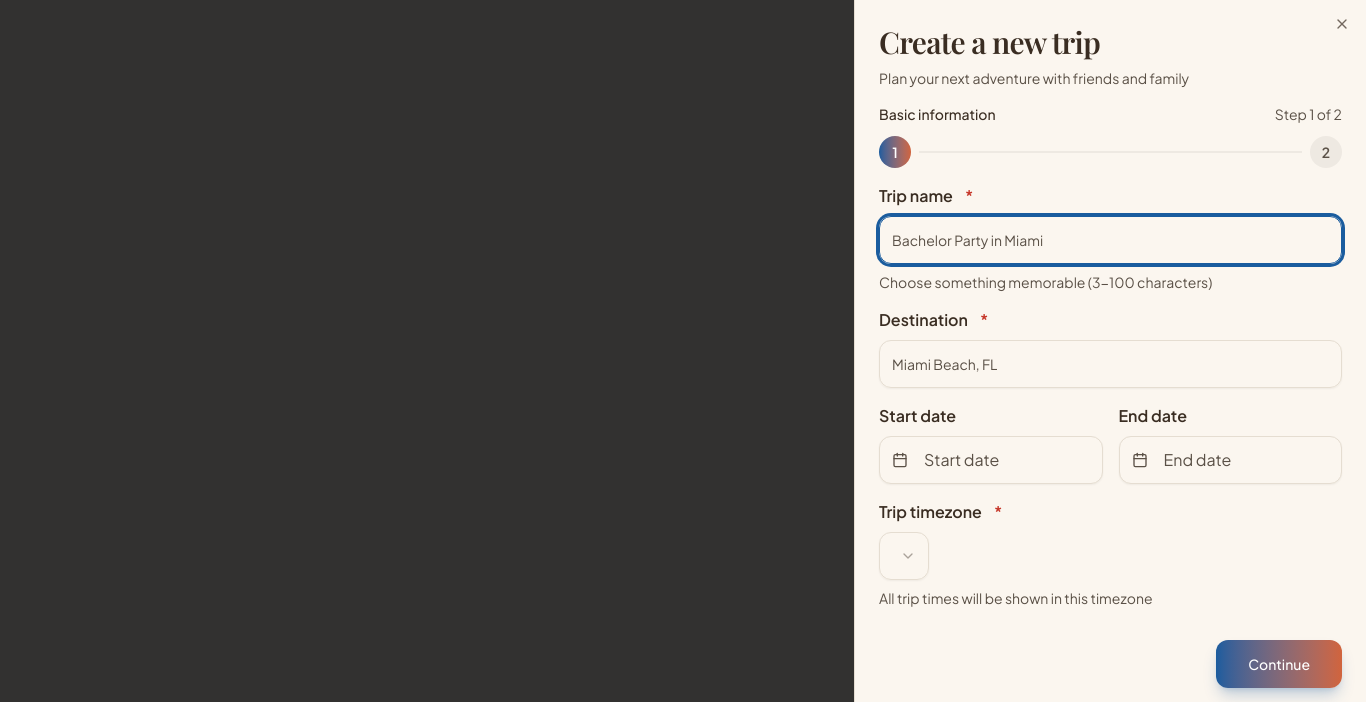
Test case: CreateTripDialog › Field validation - Date fields › accepts optional start and end dates
The image size is (1366, 702).
// Fill required fields
Type "Test Trip" into the field labelled "Trip name *" at coordinates (1110, 240), box [879,216,1342,264]
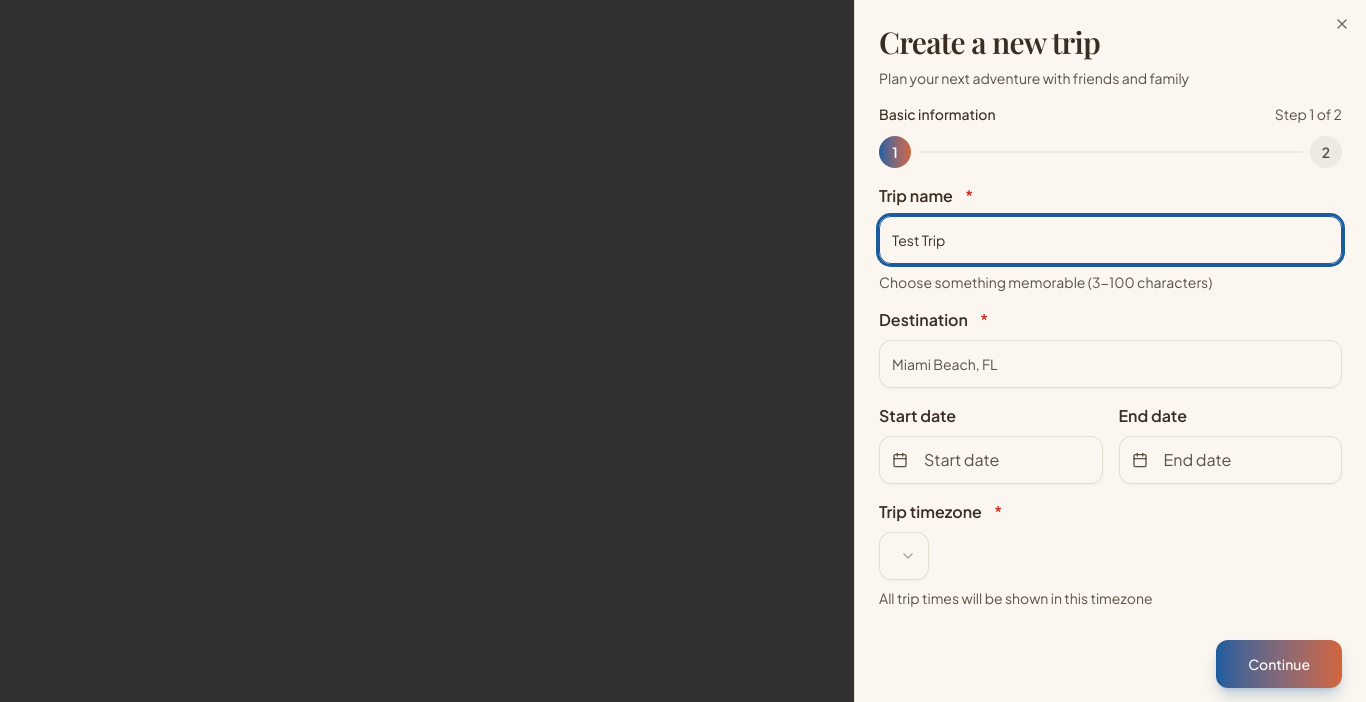
Type "Miami" into the field labelled "Destination *" at coordinates (1110, 364), box [879,340,1342,388]
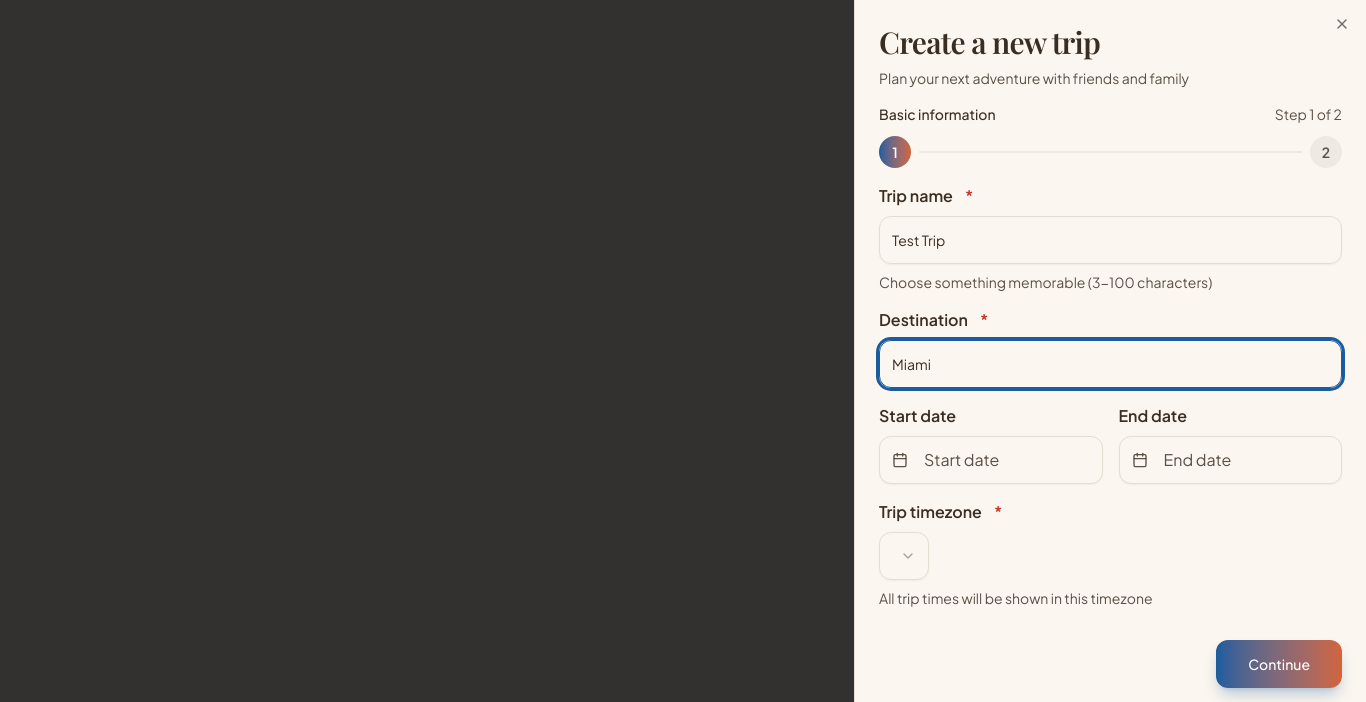
// Leave dates empty
Click the button "Continue" at coordinates (1279, 664), box [1216,640,1342,688]
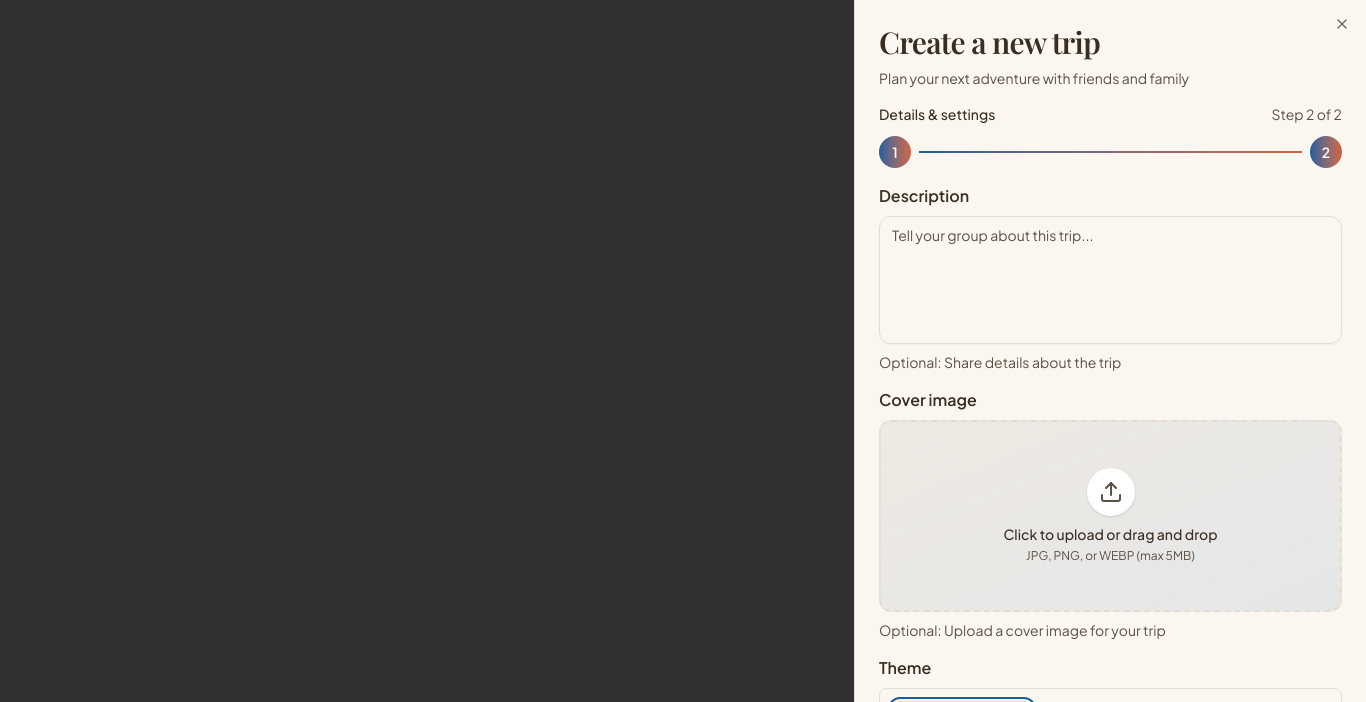
Expected: the text "Step 2 of 2" is shown, [1272,104,1342,124]
